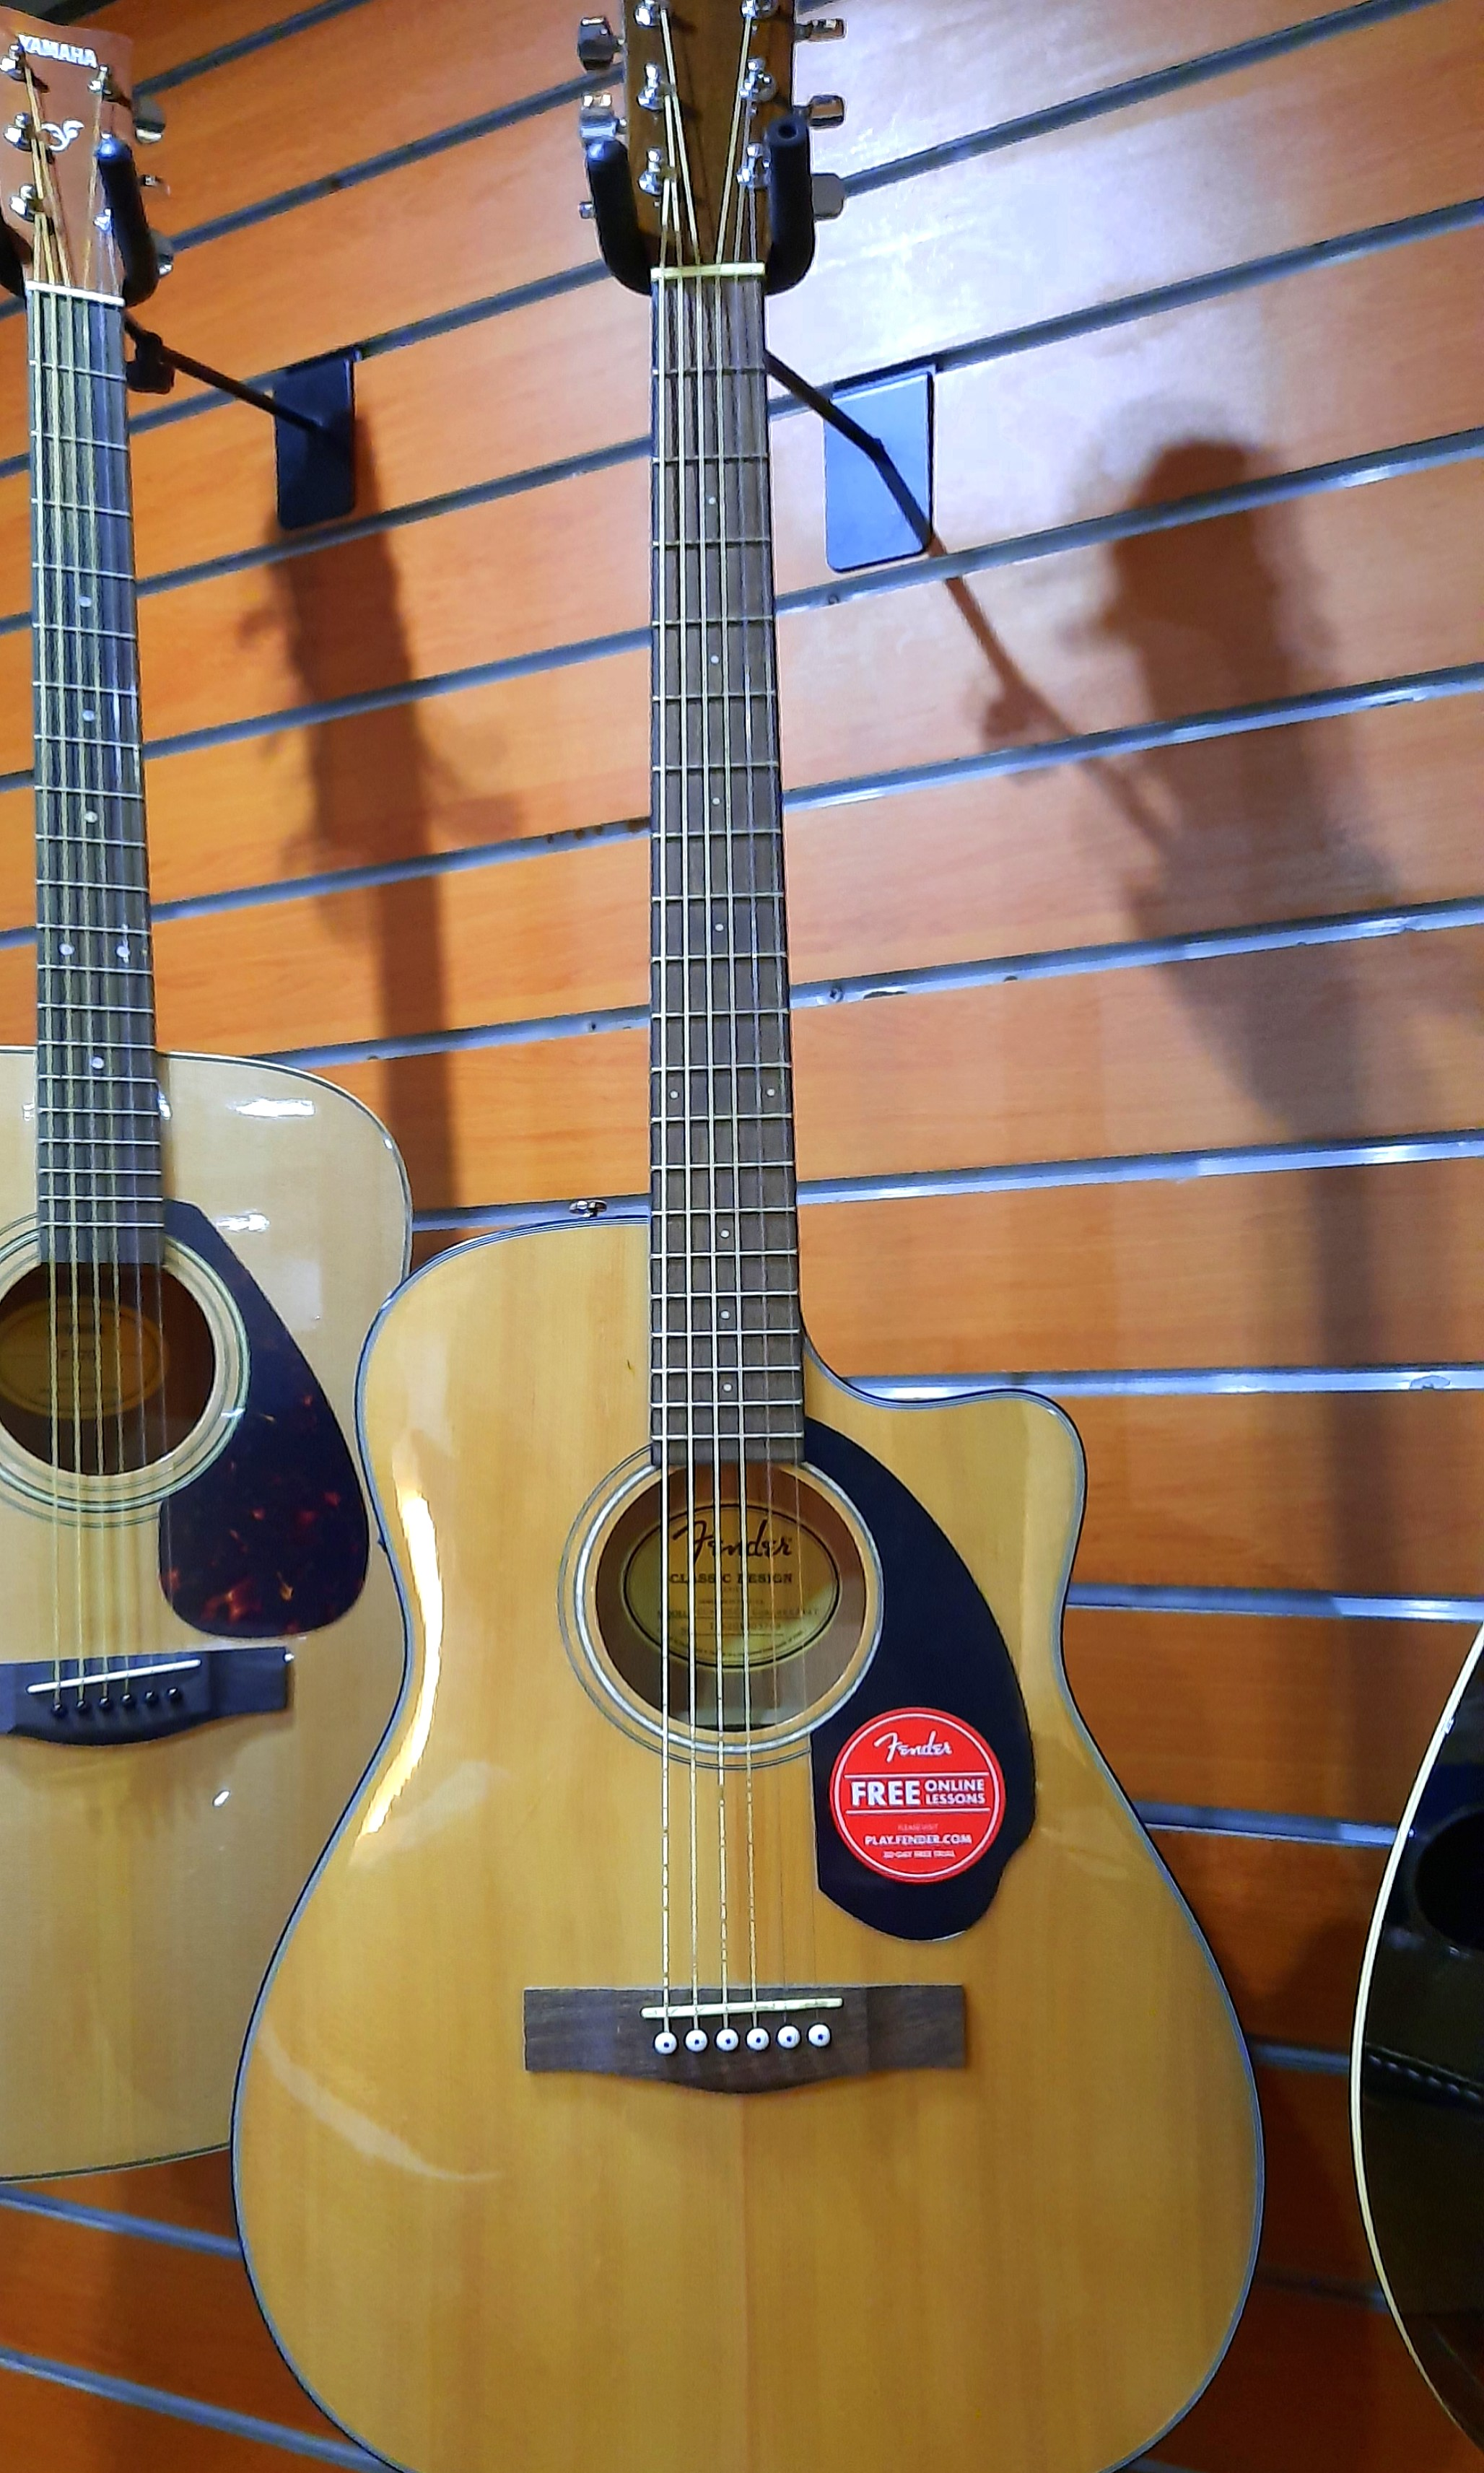guitar: (217, 0, 1279, 2455)
